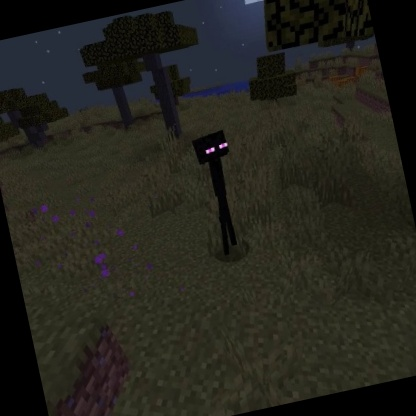enderman: (187, 125, 255, 260)
